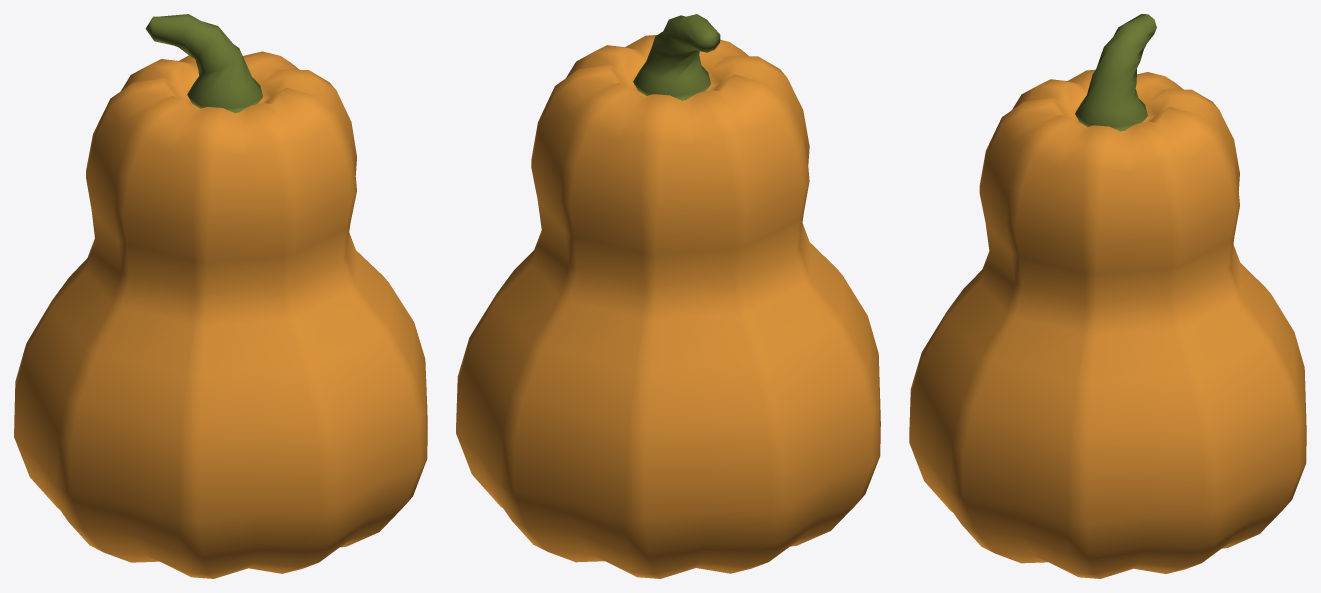
File: Pumpkin_3.fbx
3 renders of one model, left to right at view 1: azimuth 30°, elevation 25°; view 2: azimuth 150°, elevation 25°; view 3: azimuth 270°, elevation 25°, orthographic. The views are drawn at different scales.
Visible parts, largest first — view 1: Pumpkin_3; view 2: Pumpkin_3; view 3: Pumpkin_3.
Boxes of the visible parts, bbox=[...] form: Pumpkin_3: bbox=[14, 14, 427, 578]; Pumpkin_3: bbox=[456, 14, 880, 578]; Pumpkin_3: bbox=[909, 14, 1306, 578].
Bounding box in the file's own units: 18.07 × 24.33 × 17.82.
